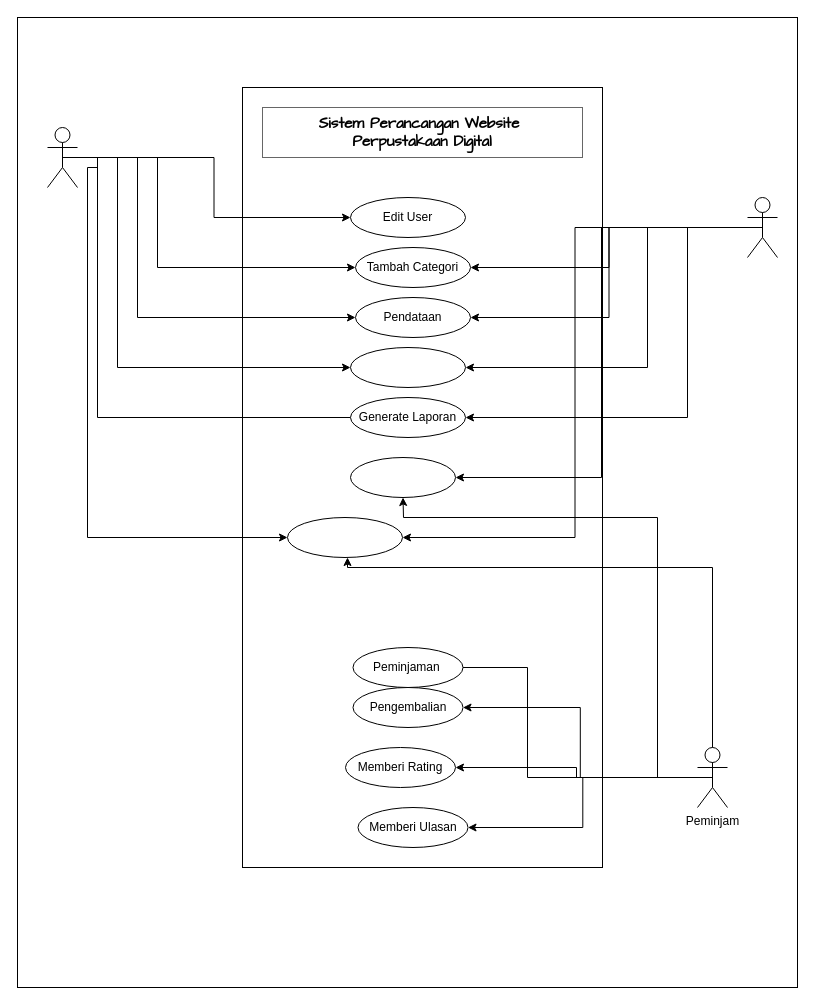
Image size: 815x1005. Some labels were removed from this diagram. The shapes that lost their labels are listed below. From the top down, each one's centre as x and y in pixels, then its label:
[62,157]: Admin
[762,227]: Petugas
[408,367]: Tambah Buku
[403,477]: Registrasi
[344,537]: Login & Logout
